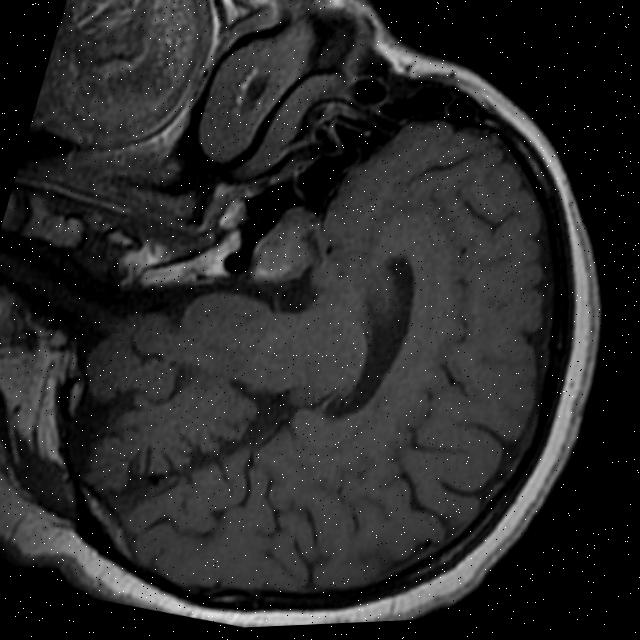Pituitary: (242, 196, 325, 292)
